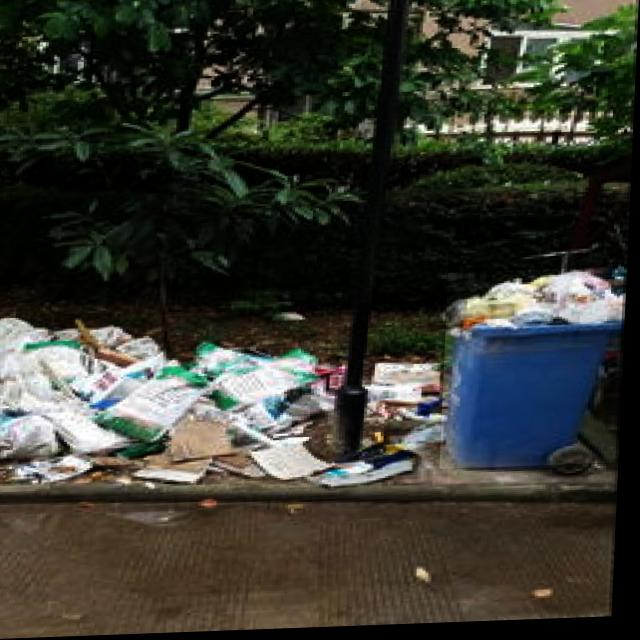garbage: (0, 303, 453, 501)
overflow: (444, 271, 627, 473)
